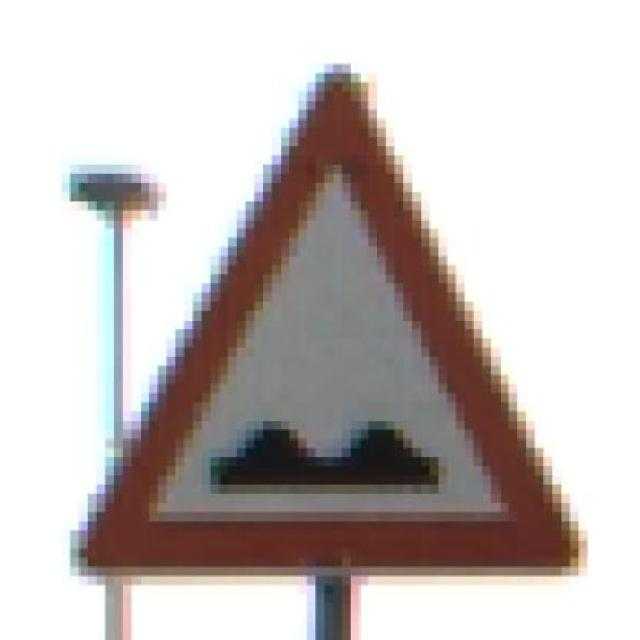Uneven Road: (52, 55, 588, 576)
